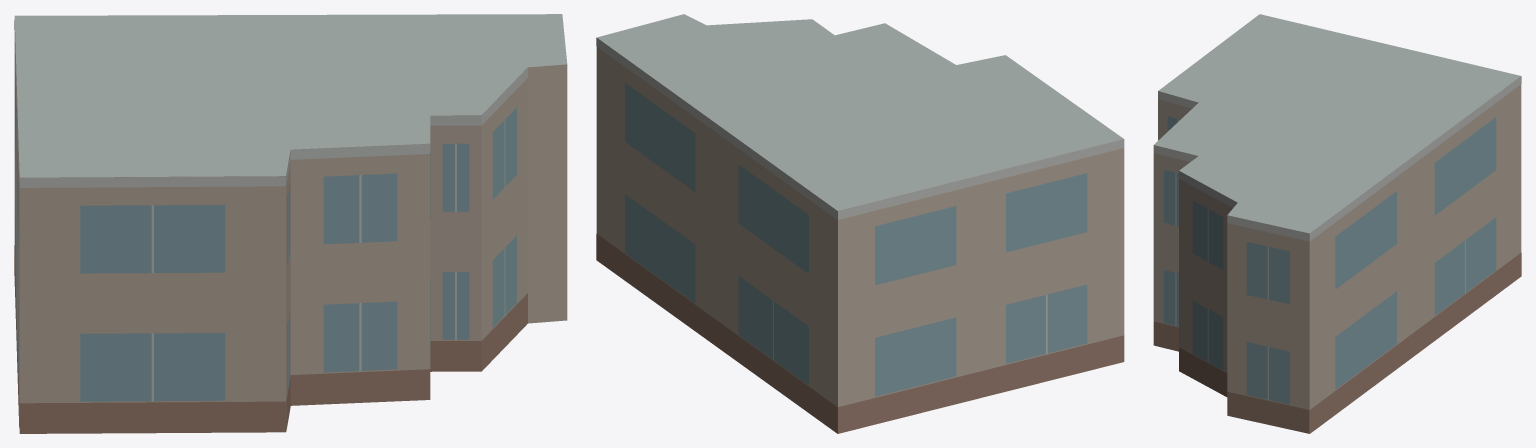
Rendered from survey-upis-32970367.glb.
The picture shows the model from 3 angles, left to right: view 1: azimuth 30°, elevation 25°; view 2: azimuth 150°, elevation 25°; view 3: azimuth 270°, elevation 25°; orthographic projection. The views are drawn at different scales.
Visible parts, largest first — view 1: survey-upis-32970367.tmp; view 2: survey-upis-32970367.tmp; view 3: survey-upis-32970367.tmp.
Boxes of the visible parts, <box> form: survey-upis-32970367.tmp: <box>14,14,567,433</box>; survey-upis-32970367.tmp: <box>596,14,1124,433</box>; survey-upis-32970367.tmp: <box>1153,14,1521,433</box>.
Size of the model in its own units: 14.33 by 6.1 by 10.16.
